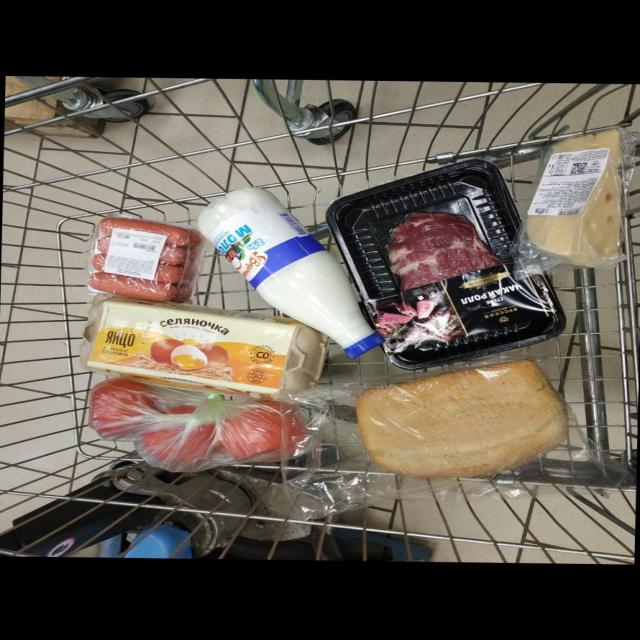Bread: (356, 359, 567, 479)
Cheese: (516, 129, 640, 274)
Eggs: (80, 296, 326, 396)
Meat: (326, 160, 564, 369)
Milk: (198, 188, 381, 356)
Sausages: (89, 217, 205, 302)
Tomatoes: (216, 401, 305, 463), (87, 377, 170, 439), (135, 422, 214, 471), (167, 405, 193, 415)
